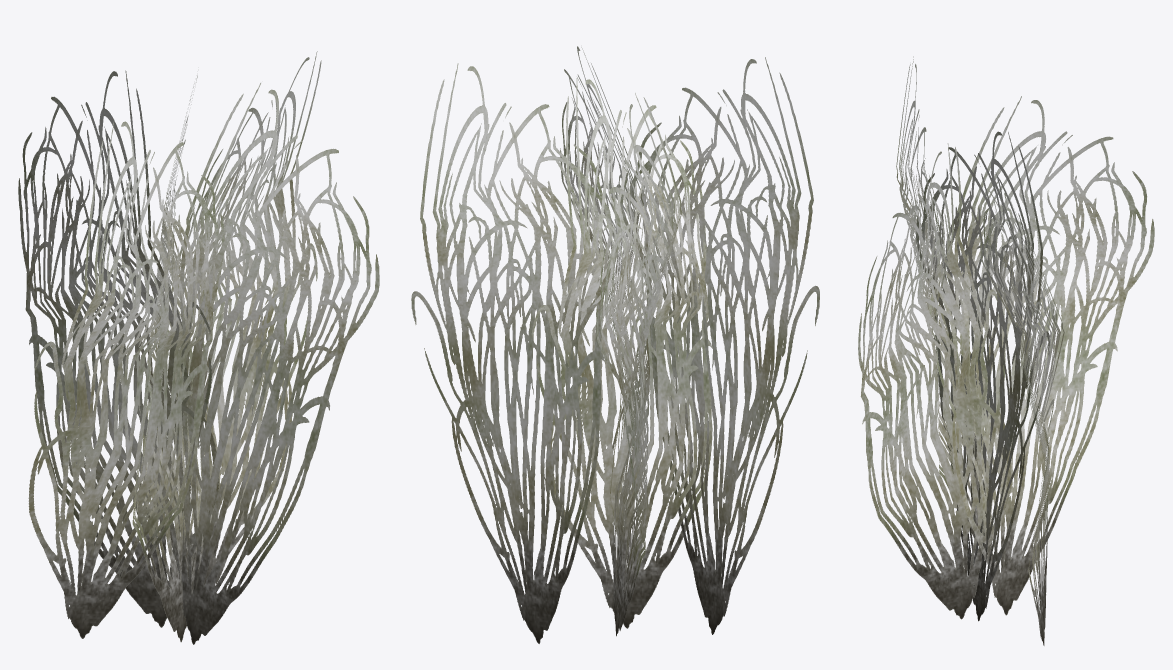
Rendered from höggräs.fbx.
3 renders of one model, left to right at view 1: azimuth 30°, elevation 25°; view 2: azimuth 150°, elevation 25°; view 3: azimuth 270°, elevation 25°, orthographic. The views are drawn at different scales.
Parts seen in each view (by area): view 1: högtgräs_lod_0; view 2: högtgräs_lod_0; view 3: högtgräs_lod_0.
Part boxes in pixels (box(x1,y1,x2,y2)): högtgräs_lod_0: box(18, 51, 379, 644); högtgräs_lod_0: box(411, 46, 819, 643); högtgräs_lod_0: box(858, 56, 1154, 645).
Bounding box in the file's own units: 0.4757 × 0.8103 × 0.3981.
